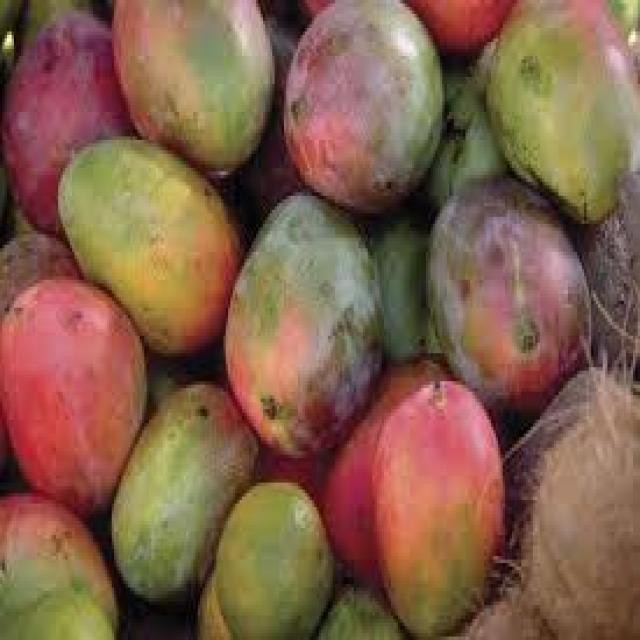biodegradable: (217, 178, 382, 462), (59, 137, 252, 354), (421, 168, 591, 409), (368, 378, 505, 637), (105, 381, 265, 595), (282, 0, 438, 217), (0, 276, 149, 493), (2, 7, 135, 245), (489, 0, 638, 210), (521, 374, 638, 637), (109, 0, 269, 178), (209, 479, 333, 637), (0, 490, 119, 637), (414, 56, 505, 210), (580, 165, 638, 396), (0, 228, 84, 305), (396, 0, 526, 49), (317, 581, 410, 637), (466, 591, 563, 637)
